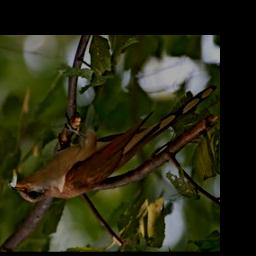Cuckoo: (4, 85, 217, 204)
